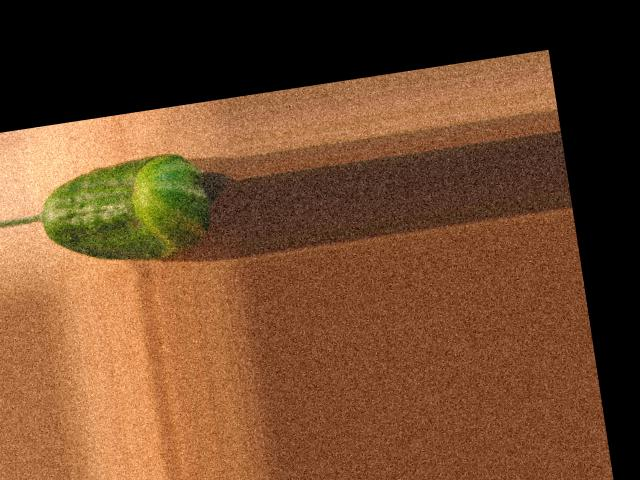cucumber: (34, 147, 215, 274)
